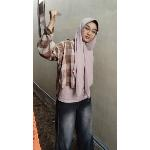Pisau: (49, 7, 64, 19)
